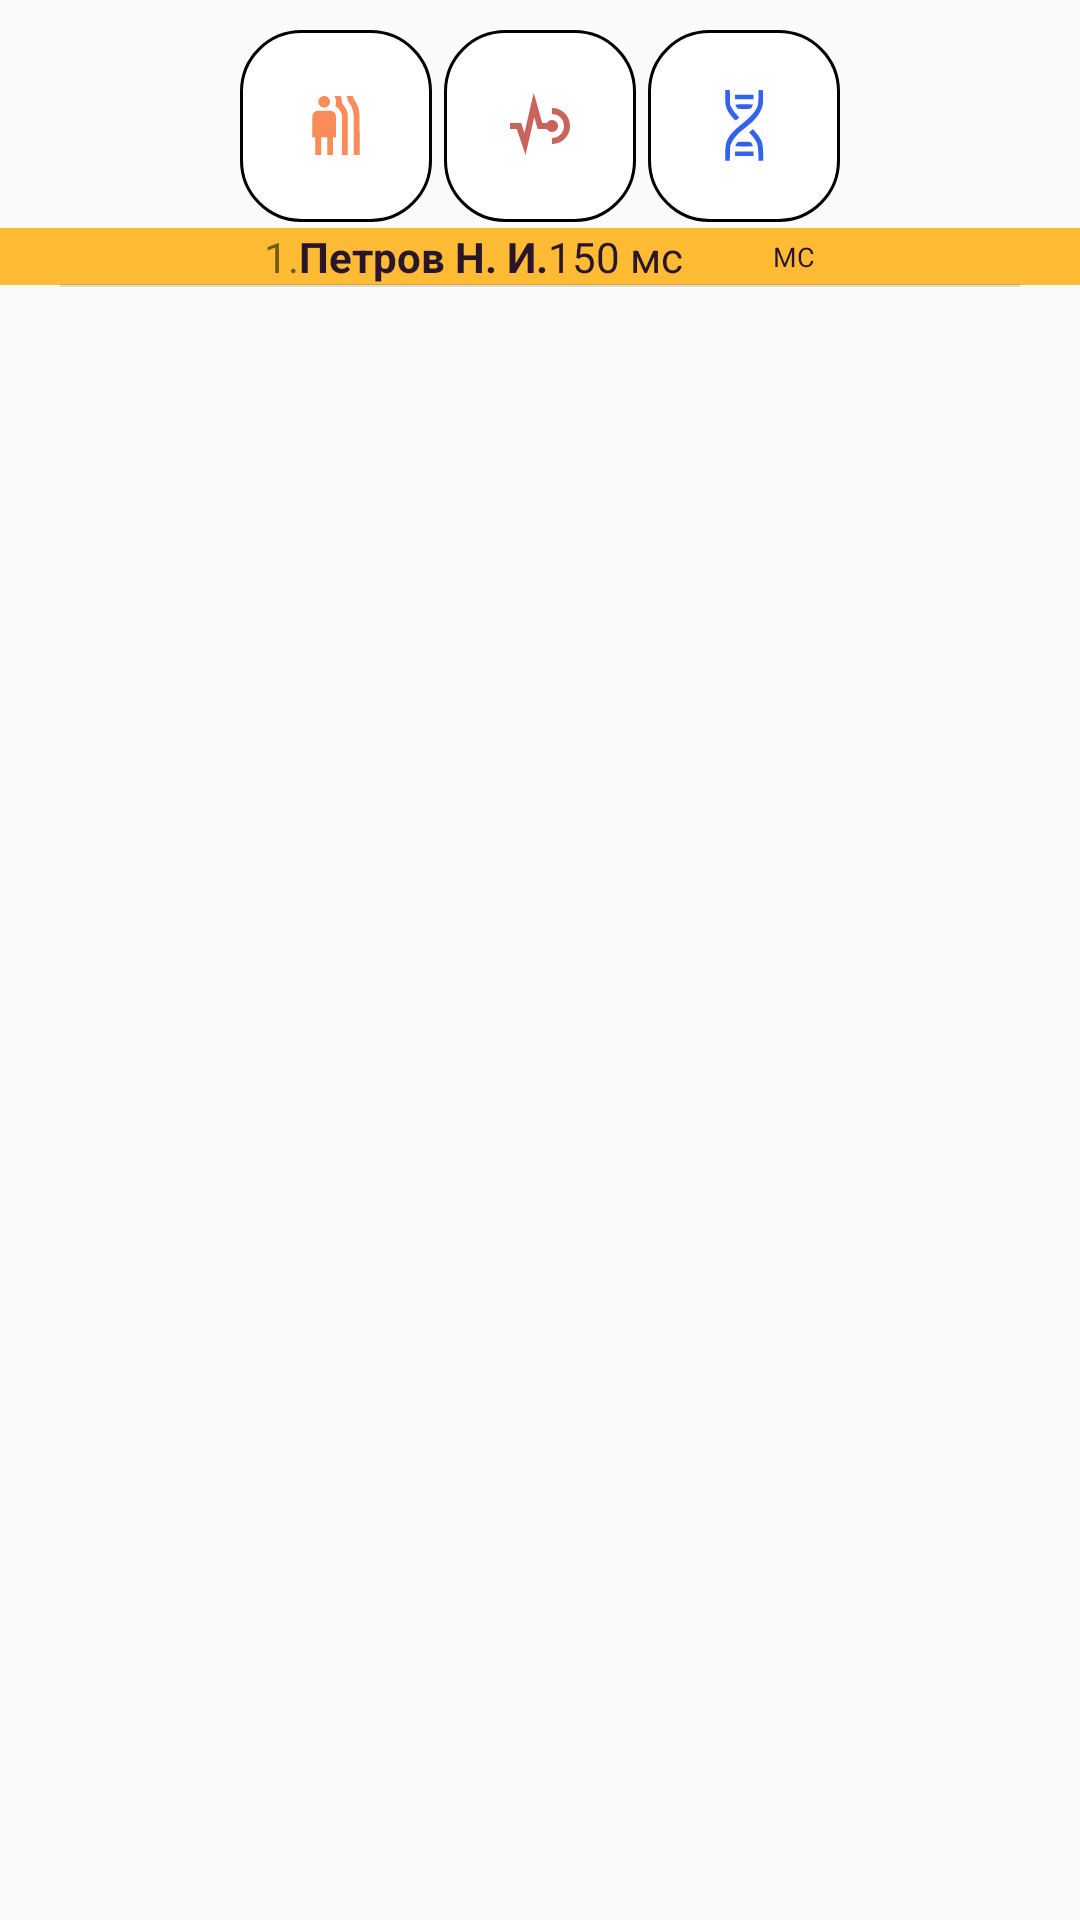

Where to tap for icons on this 1080x1920 app screen, as point (x, y):
motion time: point (336, 125)
